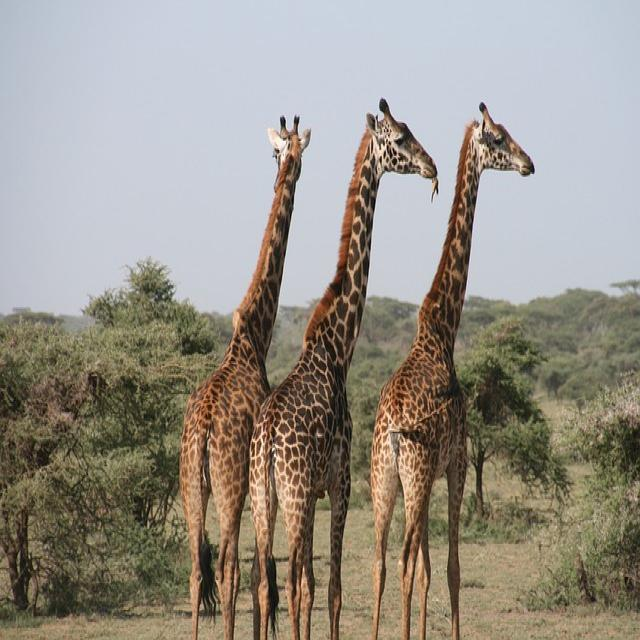Herbivorous: (248, 105, 437, 640), (369, 105, 535, 640), (179, 121, 310, 640)
